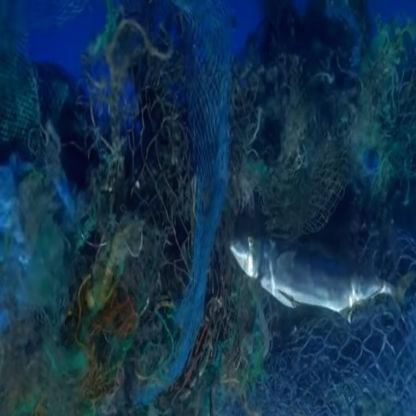net: (79, 44, 416, 287)
